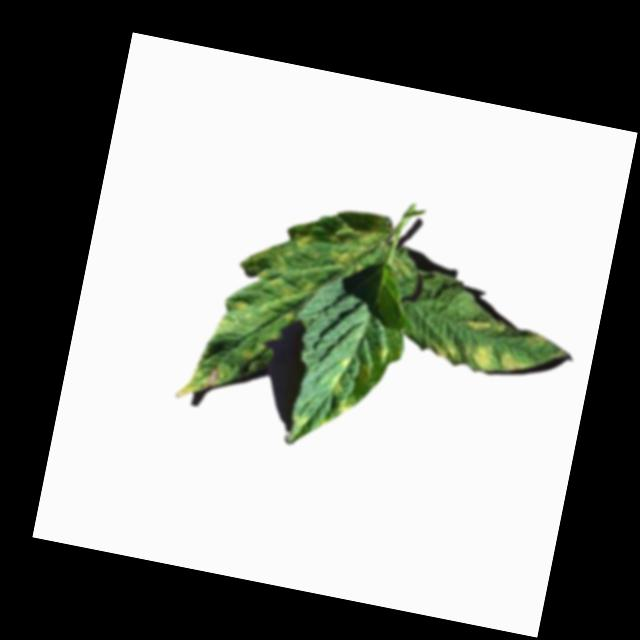Leaf_Mold: (169, 196, 380, 428), (429, 333, 529, 381), (326, 353, 377, 420), (464, 313, 550, 350)
